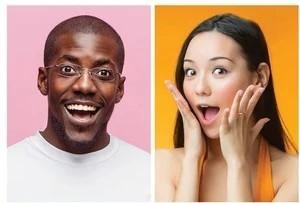feliz: (30, 10, 133, 152)
surpreso: (168, 9, 278, 150)
